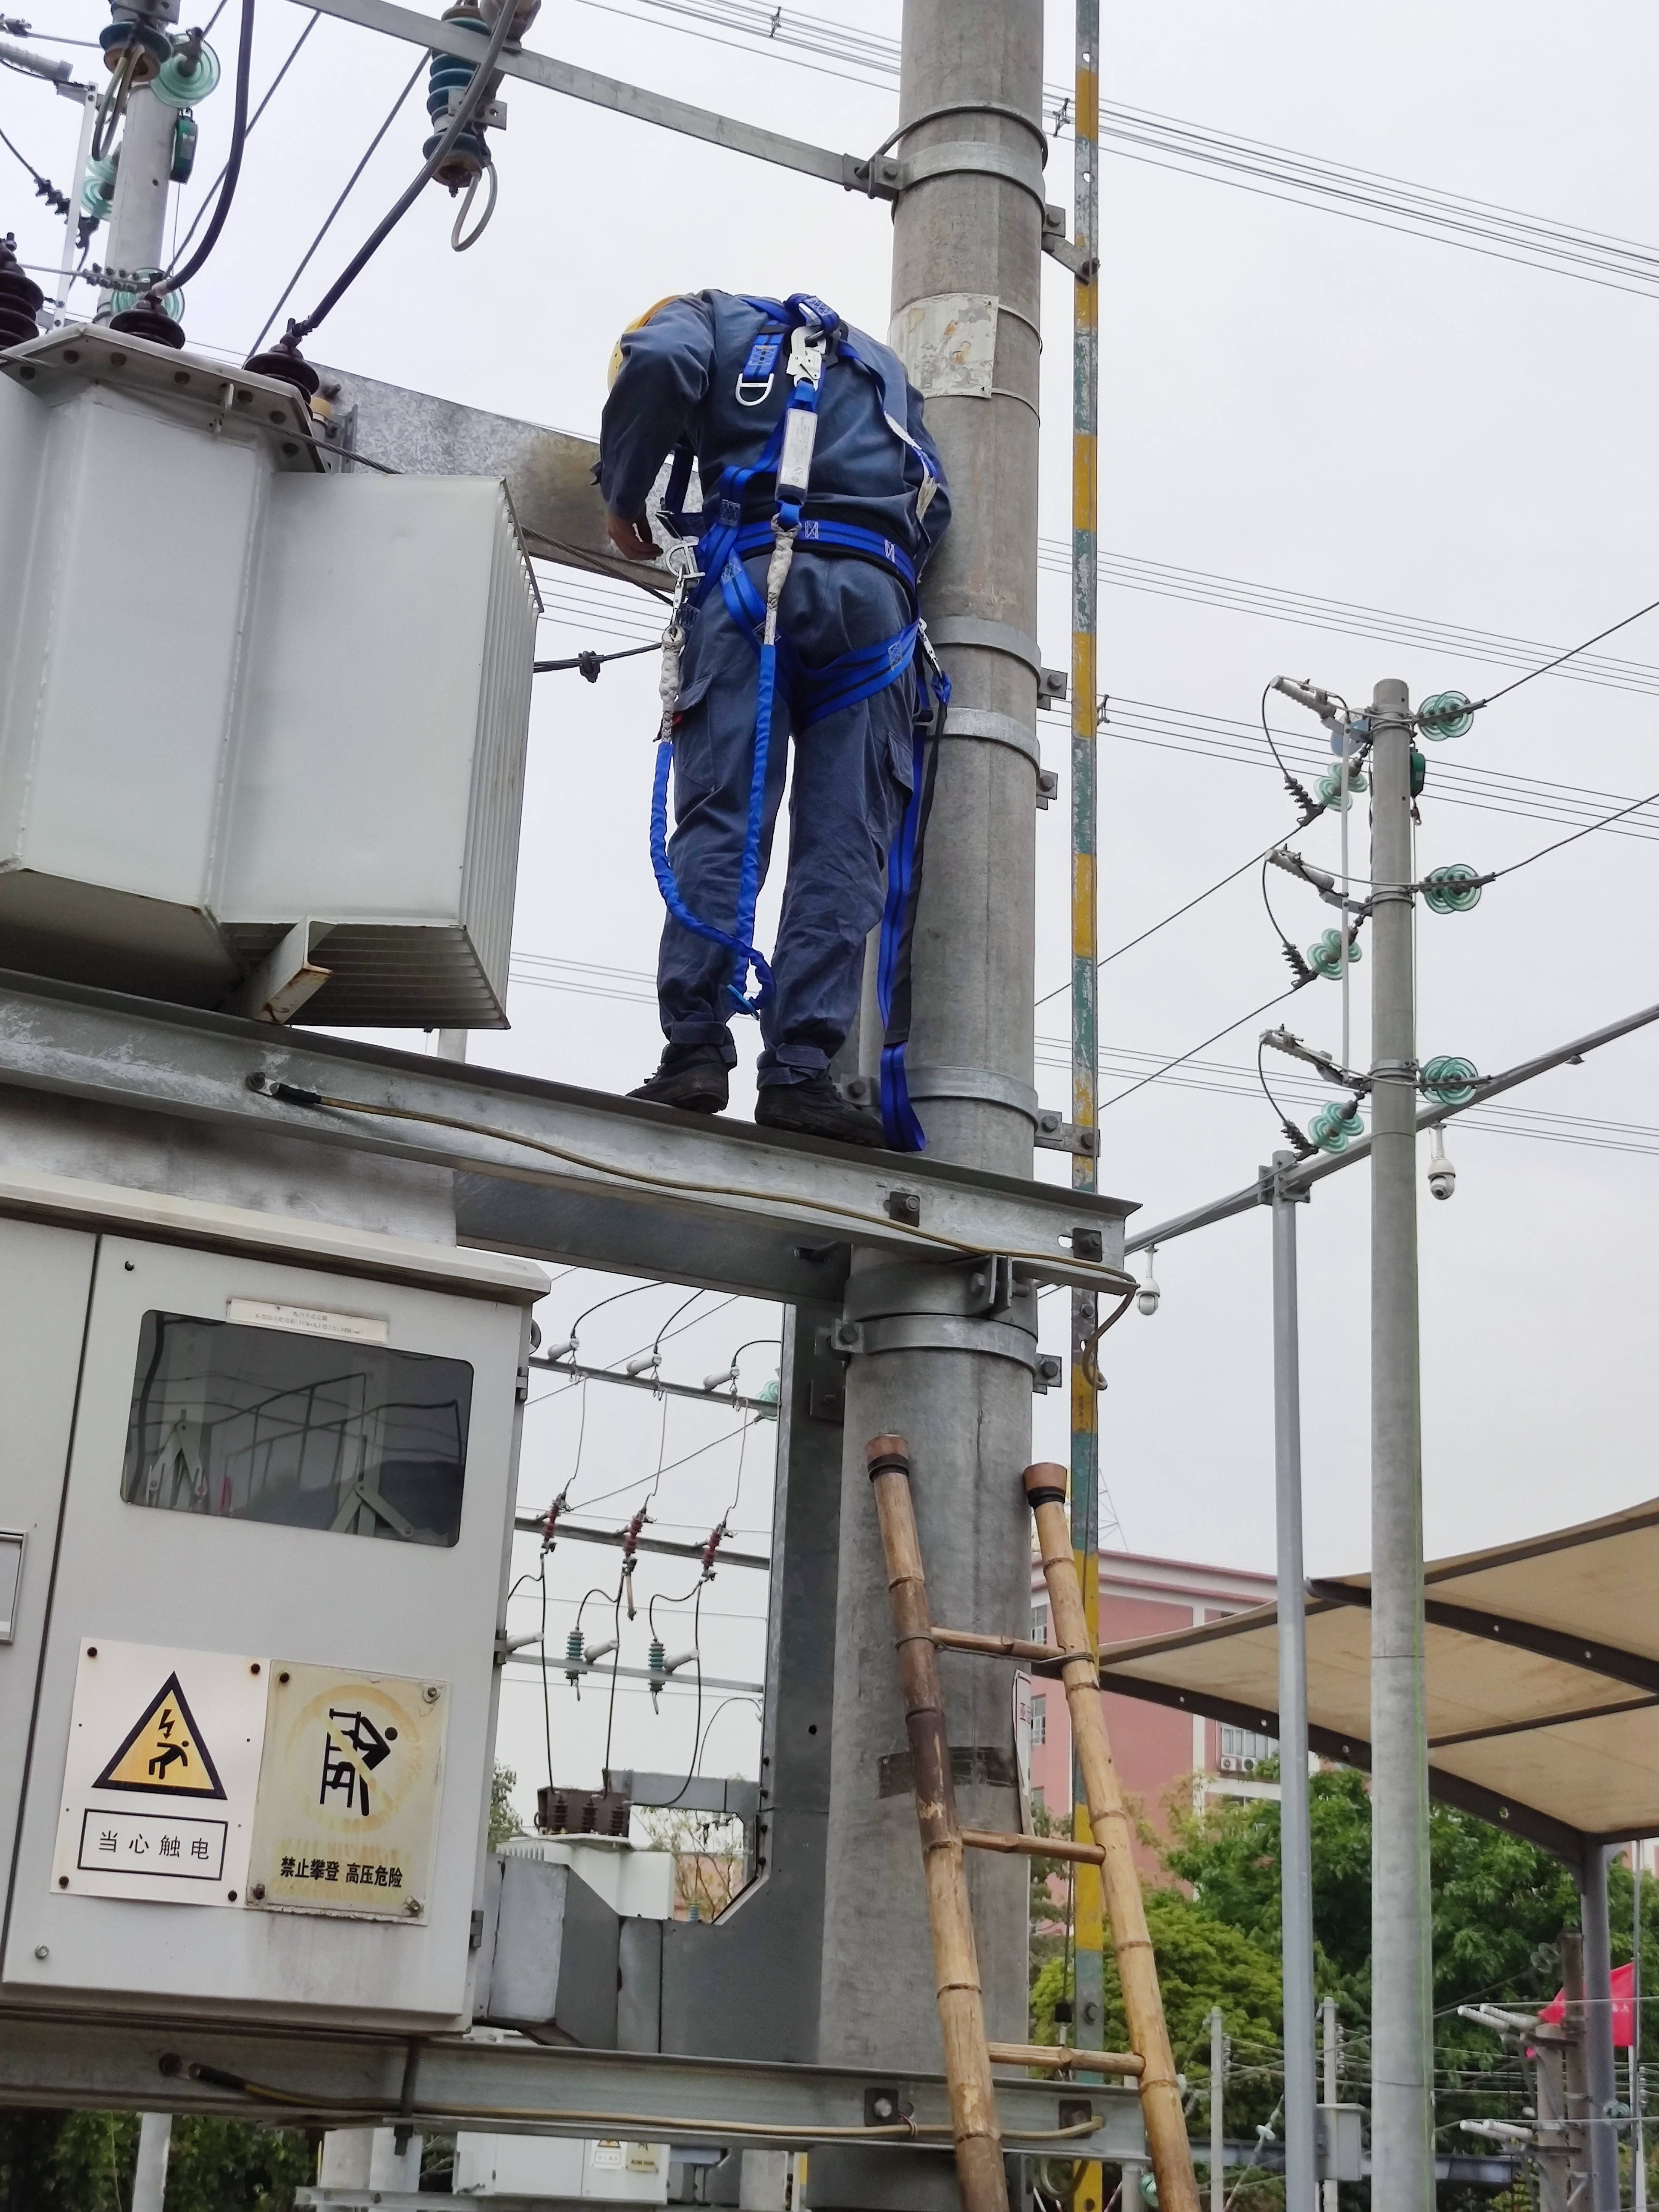downsuit: (645, 561, 920, 1083)
upsuit: (592, 286, 955, 547)
